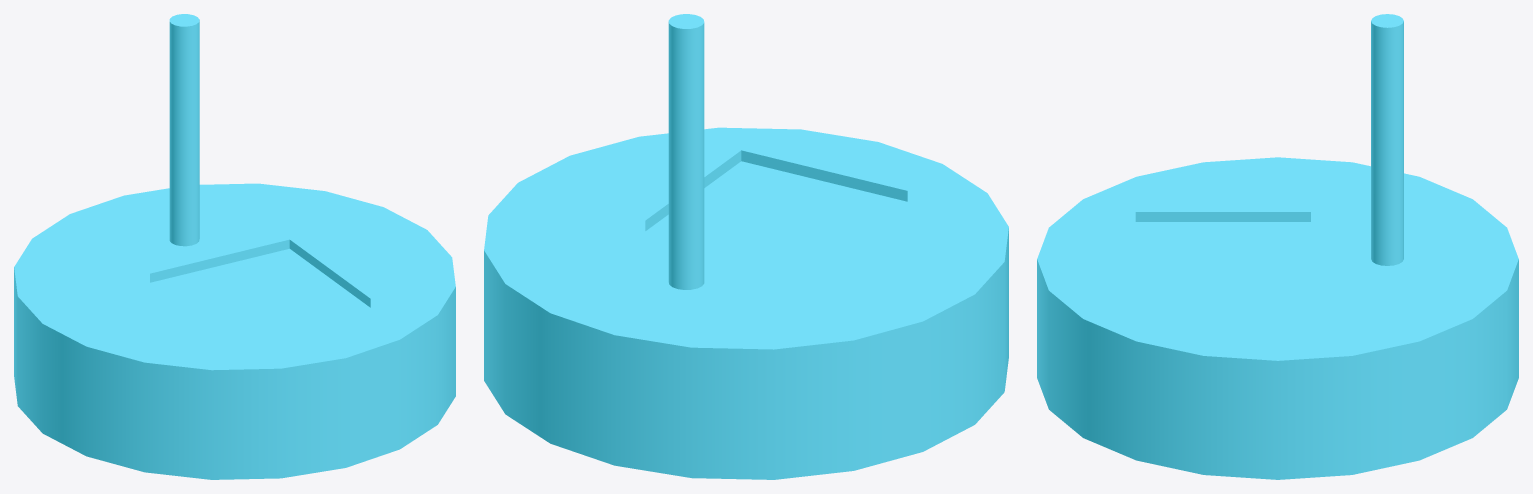
File: sensor.glb
3 views of the same model, side by side, from view 1: azimuth 30°, elevation 25°; view 2: azimuth 150°, elevation 25°; view 3: azimuth 270°, elevation 25° (orthographic). The views are drawn at different scales.
Visible parts, largest first — view 1: CyberDomeAsset; view 2: CyberDomeAsset; view 3: CyberDomeAsset.
Boxes of the visible parts, x1=… form: CyberDomeAsset: x1=14, y1=14, x2=455, y2=479; CyberDomeAsset: x1=484, y1=14, x2=1008, y2=479; CyberDomeAsset: x1=1037, y1=14, x2=1518, y2=479.
Bounding box in the file's own units: 0.44 × 0.36 × 0.44.
